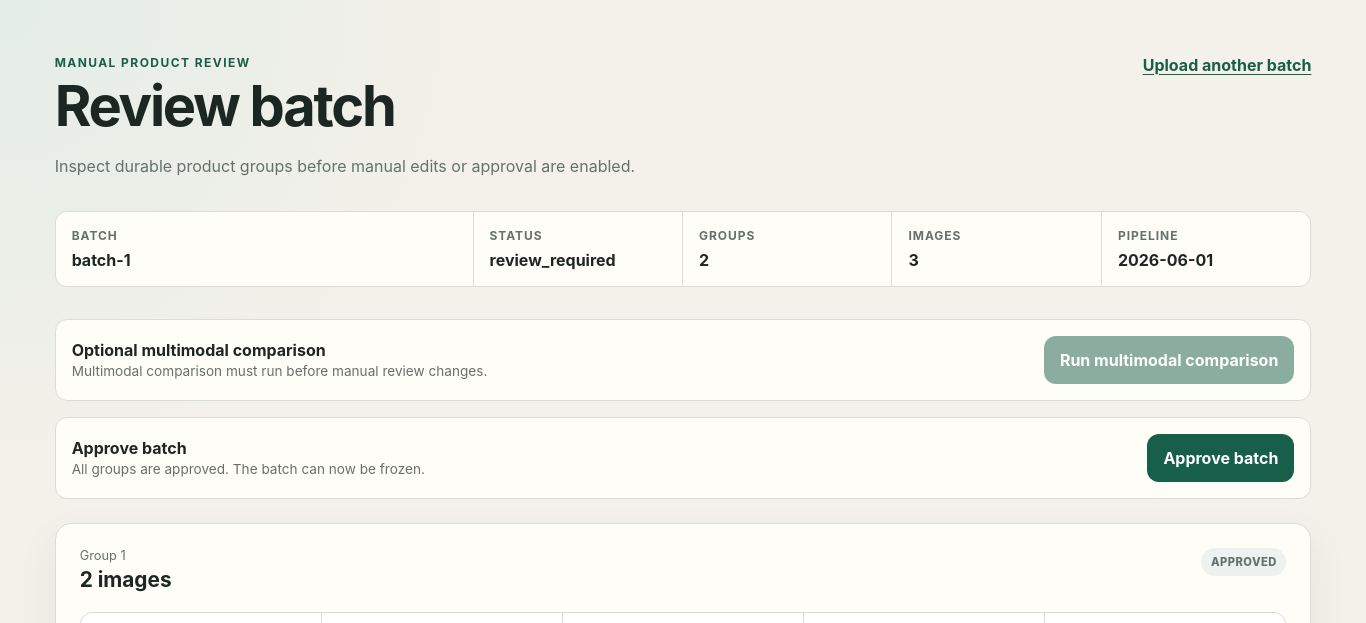
Test case: ReviewBatch › approves a batch after every group is approved
Click the button "Approve batch" at (1221, 458), box [1147,434,1294,482]
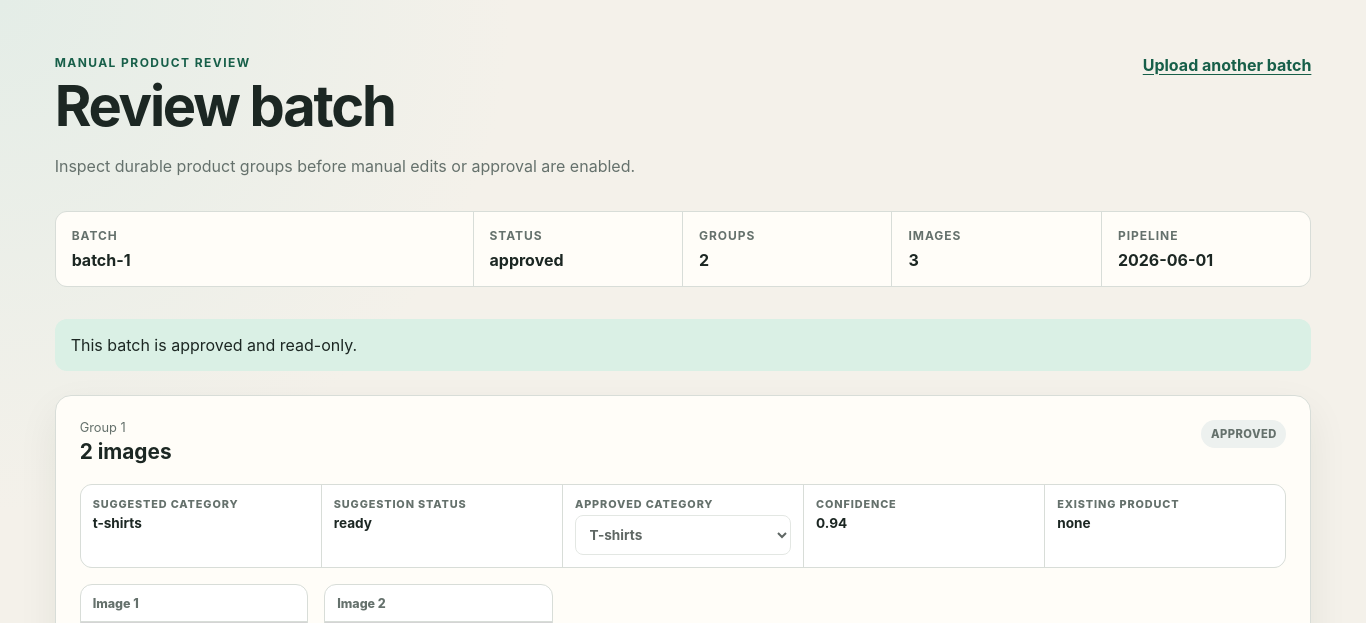
Check: the text "This batch is approved and read-only." is shown, box [55,319,1311,371]
Check: the button "Run multimodal comparison" is gone
